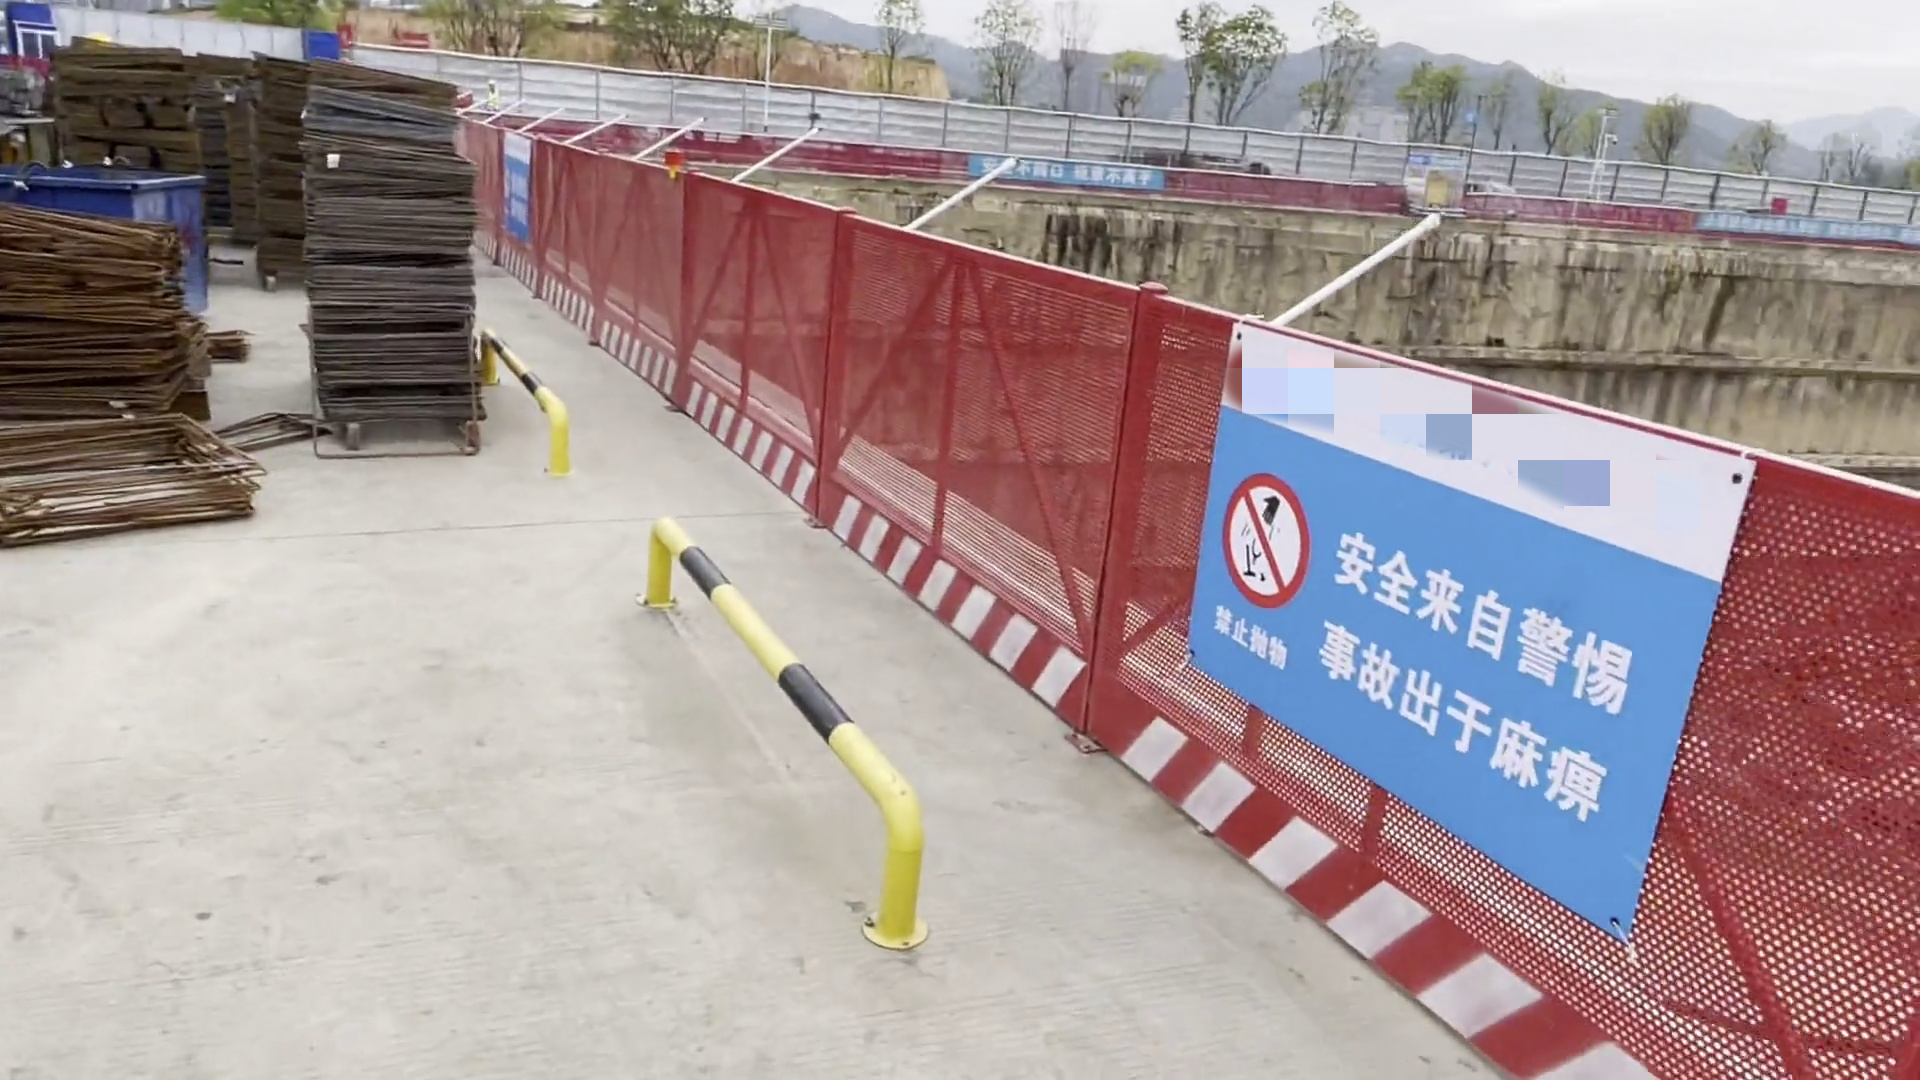fence: (1140, 288, 1920, 1077), (829, 214, 1129, 758), (670, 172, 836, 521), (462, 123, 674, 389)
hopper: (18, 167, 218, 304)
person: (482, 76, 499, 113)
slogan: (1190, 330, 1750, 958), (1696, 211, 1913, 253), (970, 158, 1157, 189), (502, 131, 530, 235)
